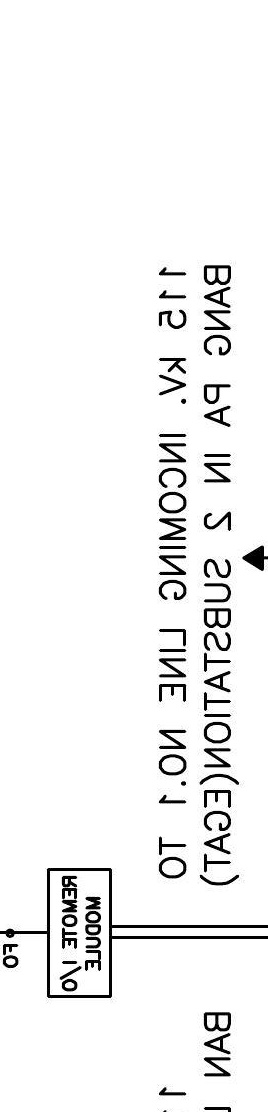remote_io_module: (47, 867, 113, 998)
